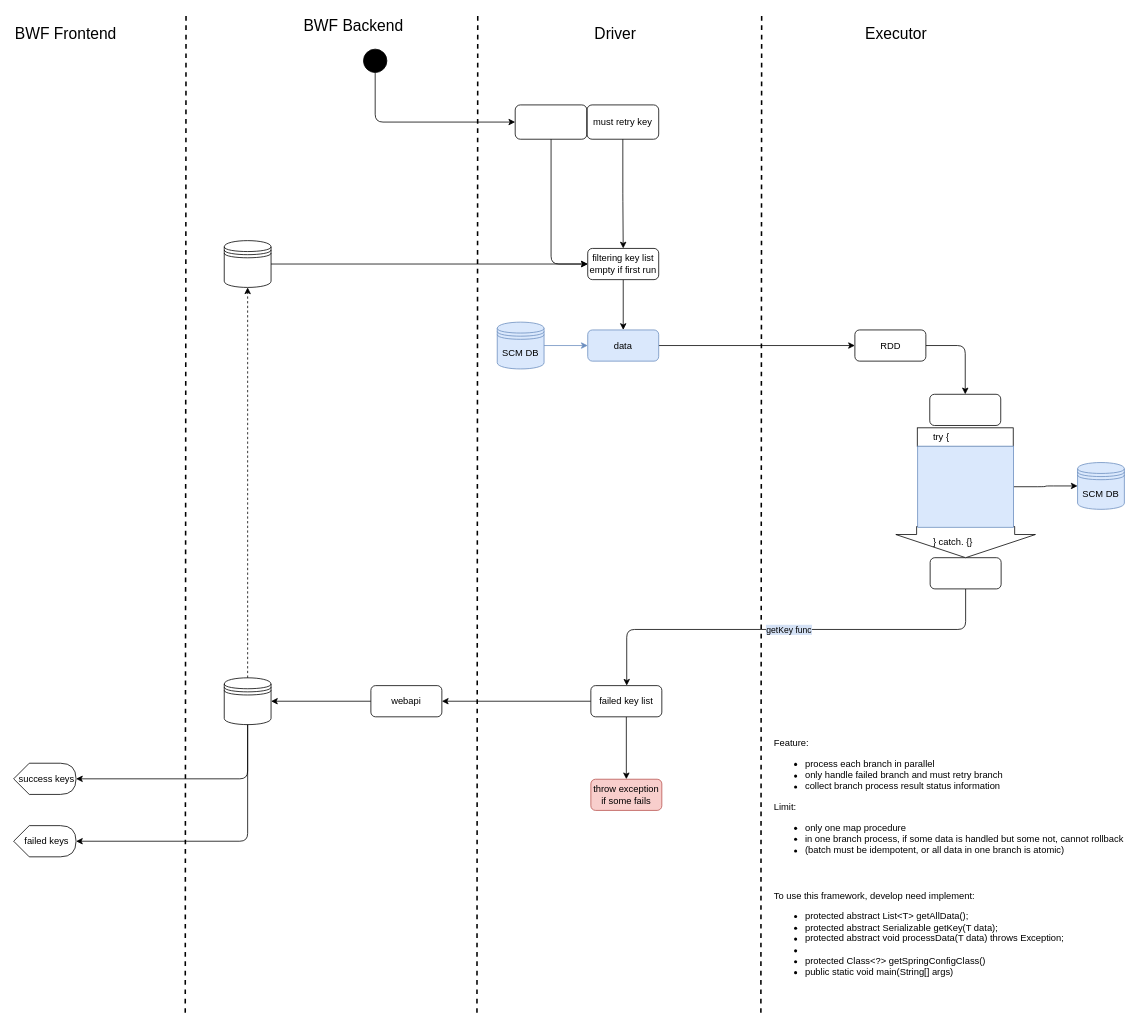
This 1145x1027 diagram has some shape labels left out. The centre of each missing label's shape, as x and y in pixels:
"bwf DB" goes at (x=247, y=701).
"failed RDD" goes at (x=965, y=573).
"filtered RDD" goes at (x=965, y=409).
"impl business..." goes at (x=965, y=486).
"instanceId nodeCode" goes at (x=550, y=121).
"last failed key" goes at (x=247, y=263).
